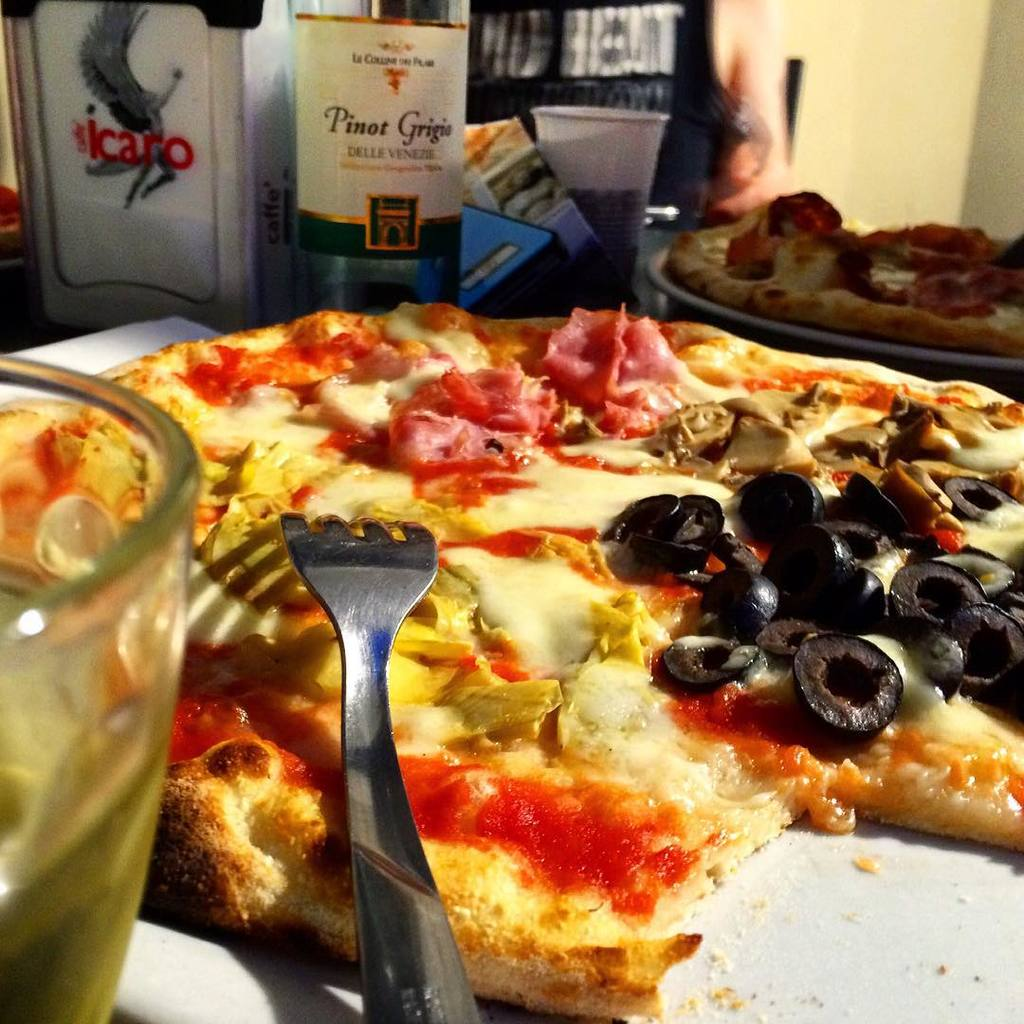Pizza: (87, 287, 1005, 1020), (683, 218, 1018, 348)
